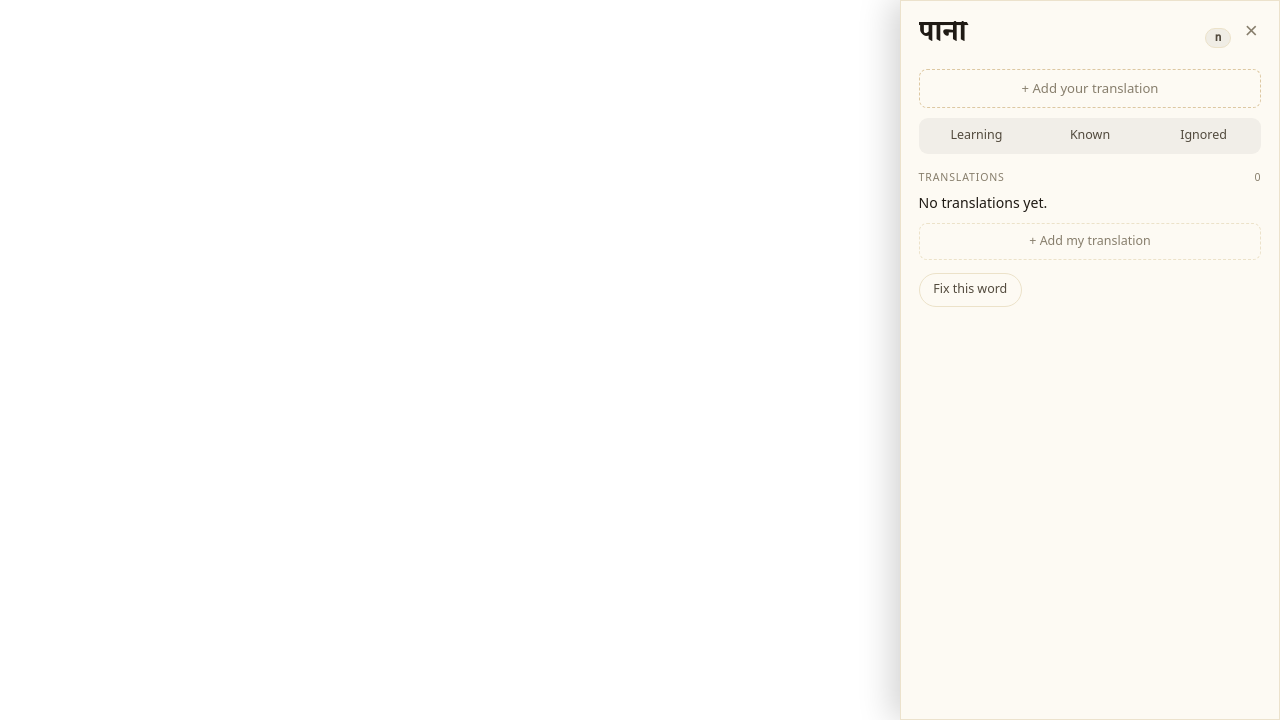
WordPopup — add-translation form (no buttons, focus, refetch) › focuses the textarea as soon as "+ Add my translation" is clicked
The image size is (1280, 720).
Click the button with class "add-toggle": (1090, 241) left=919, top=223, right=1261, bottom=260
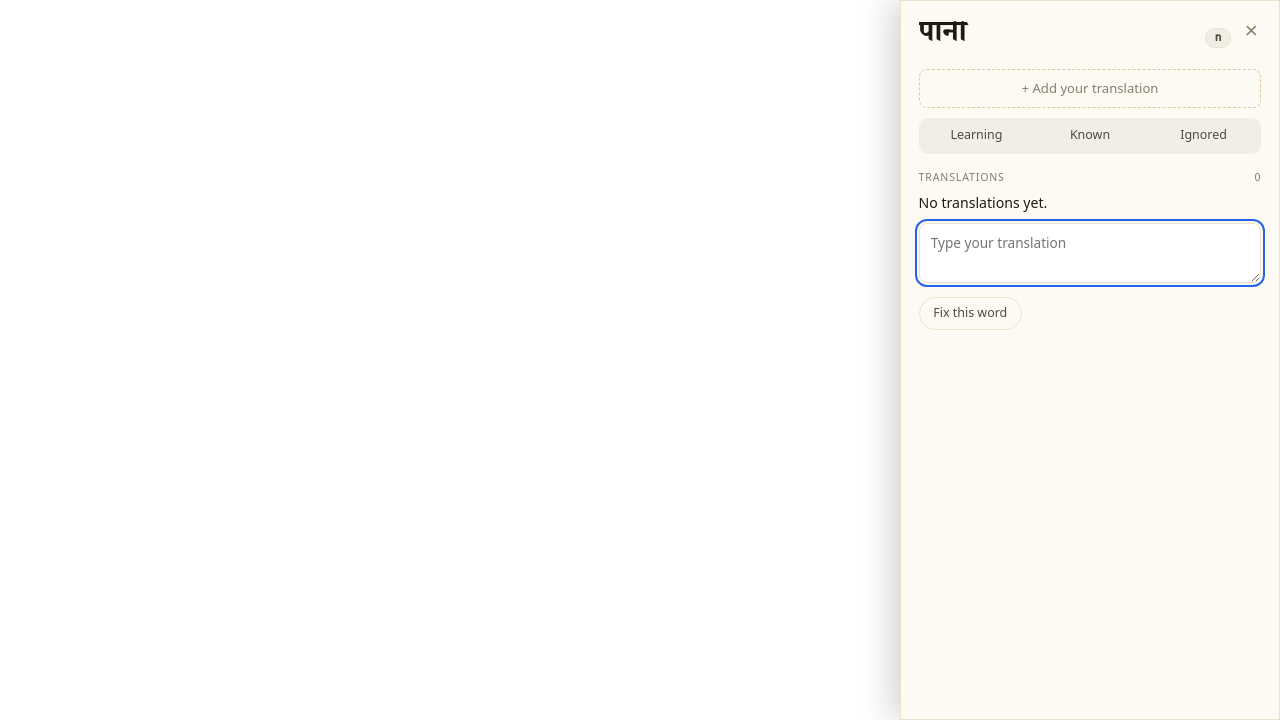
Expected: the text box with placeholder "Type your translation" is shown, left=919, top=223, right=1261, bottom=283
